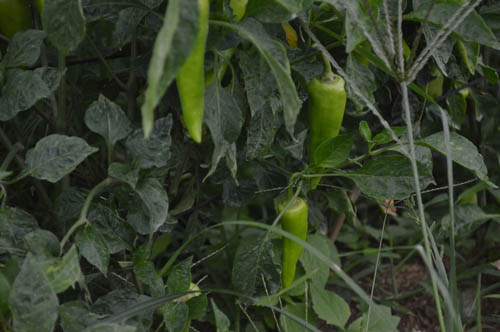ChiliPepper: (304, 80, 346, 184), (175, 3, 203, 142), (277, 201, 311, 285)
